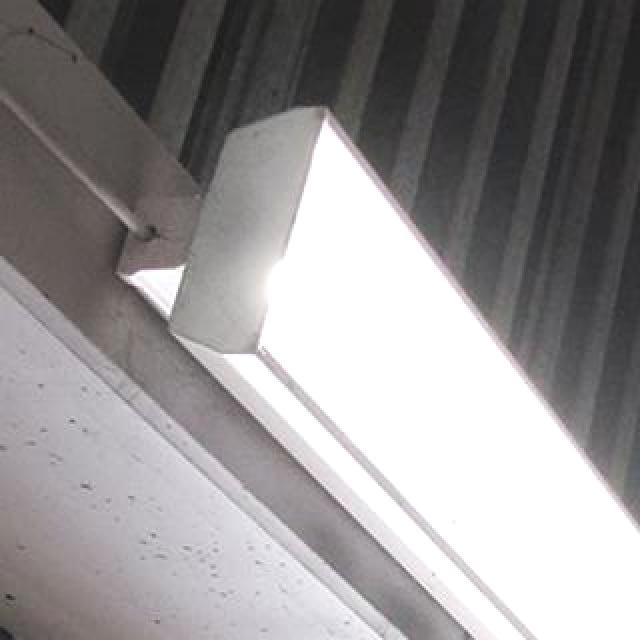fluorescent tube: (156, 100, 640, 640)
